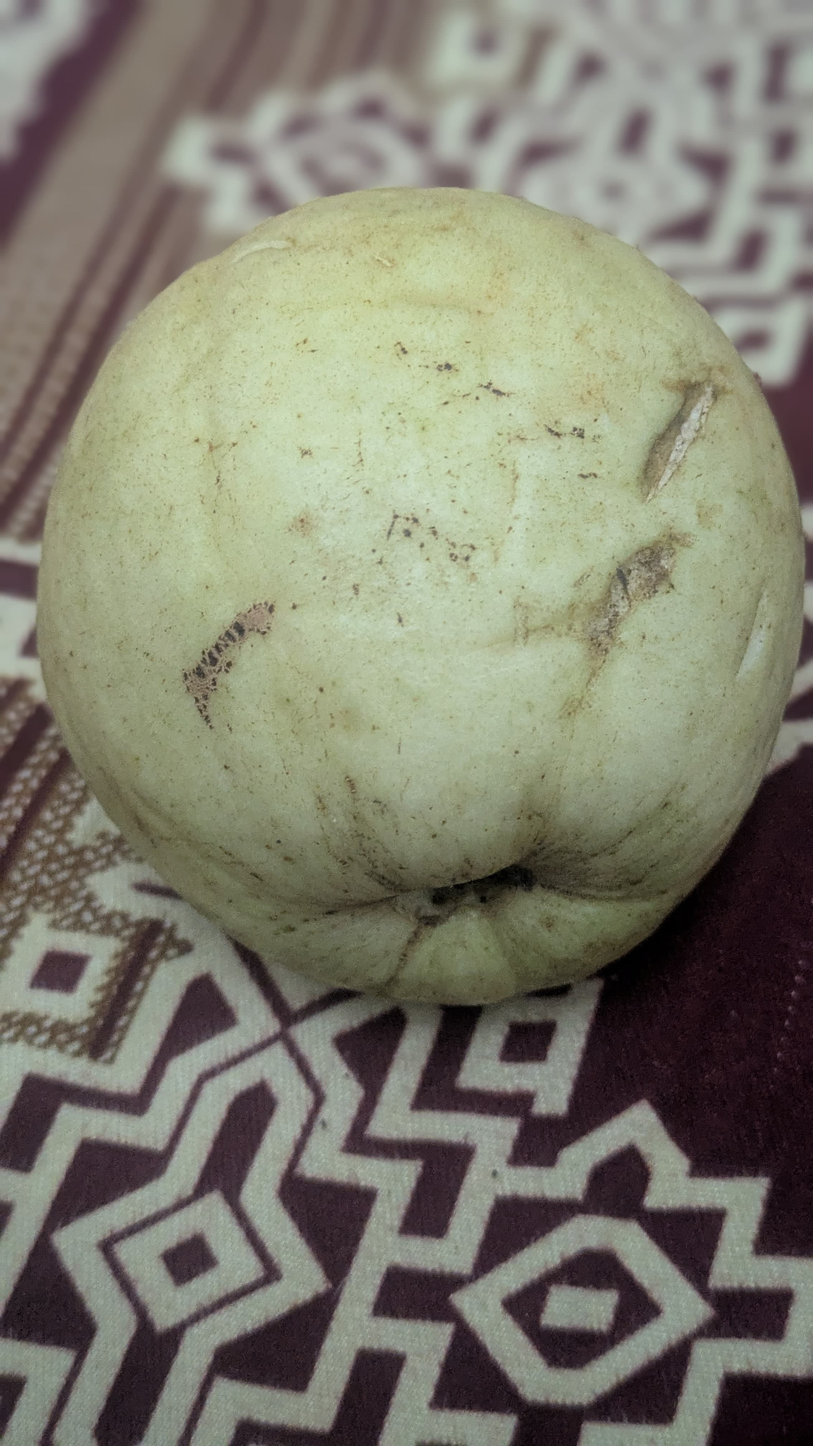guava: (35, 75, 680, 1152)
